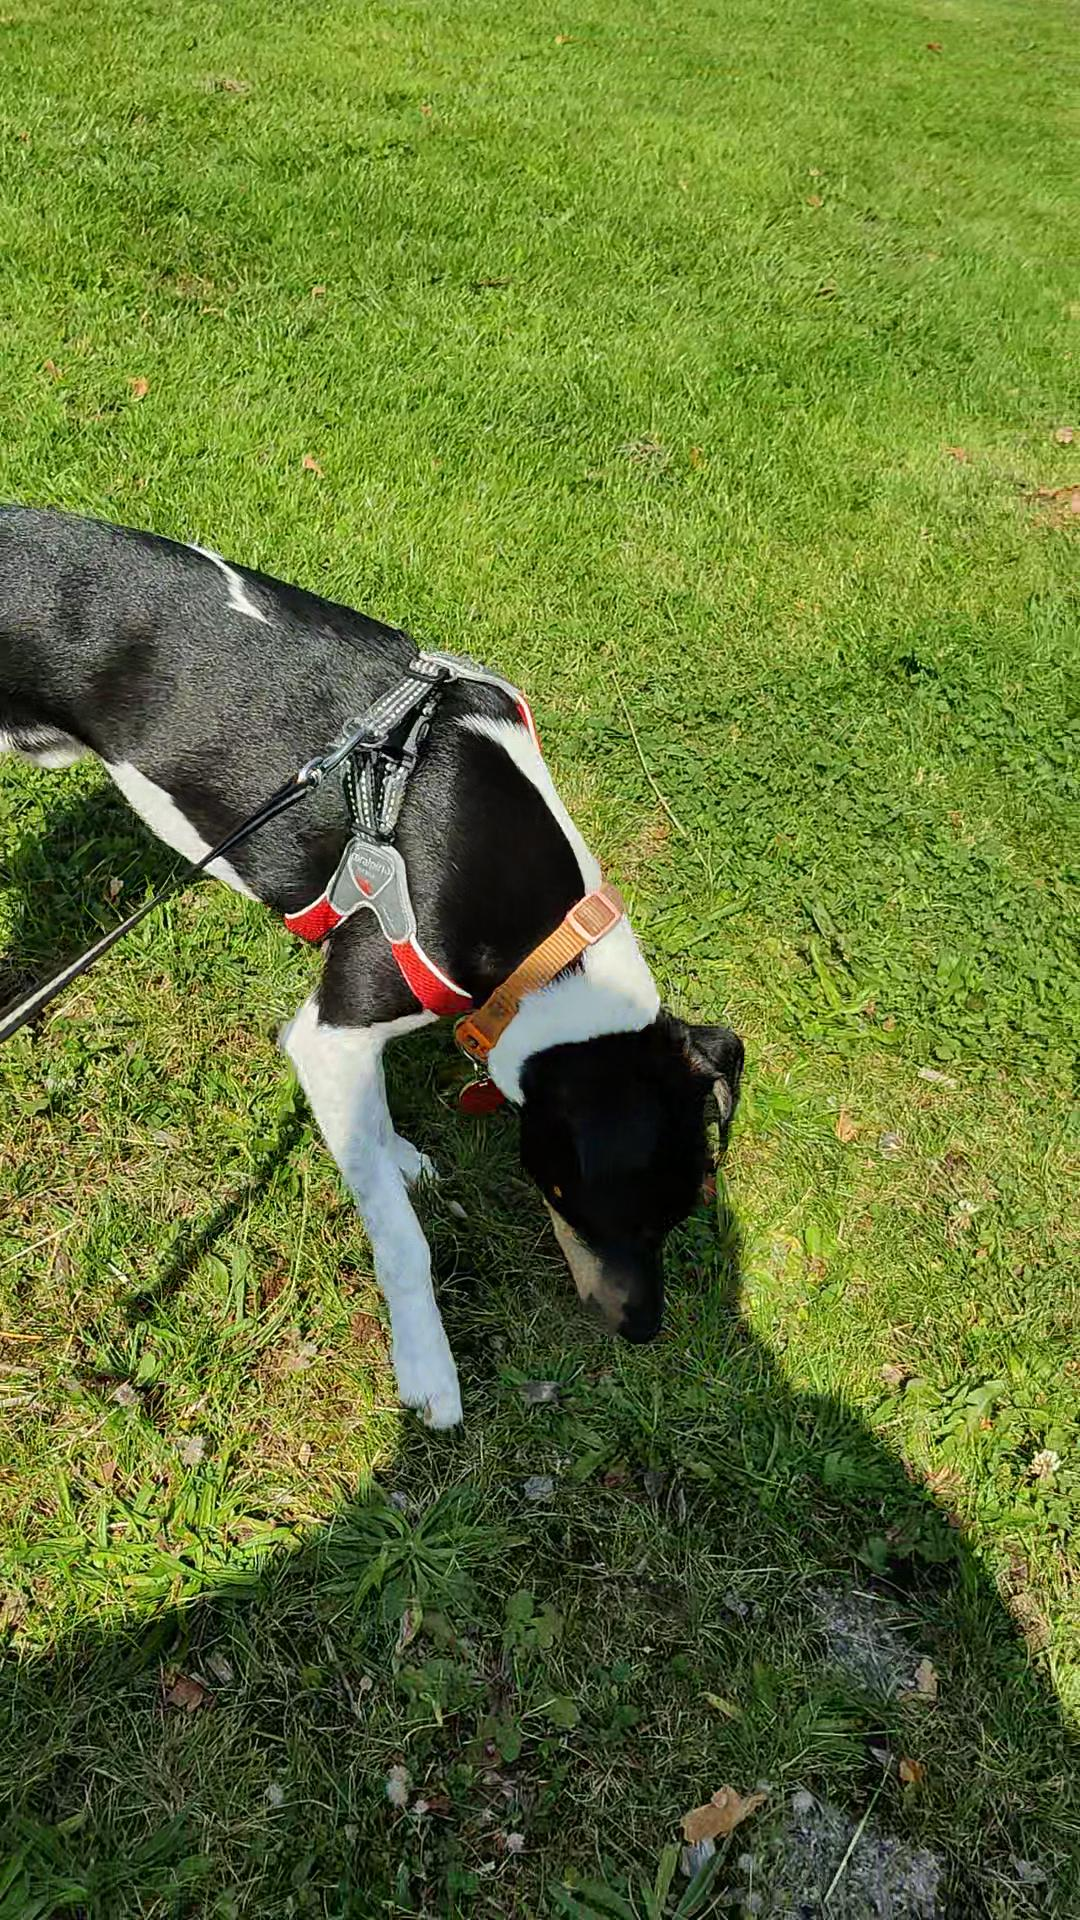Dog: (0, 496, 750, 1436)
